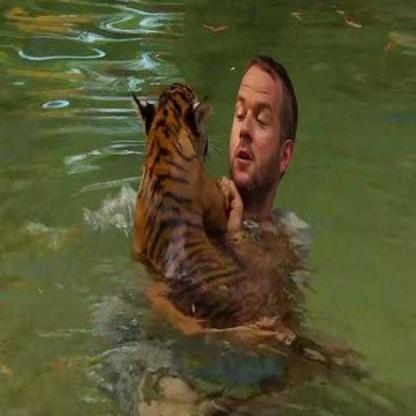Tiger: (93, 73, 240, 354)
